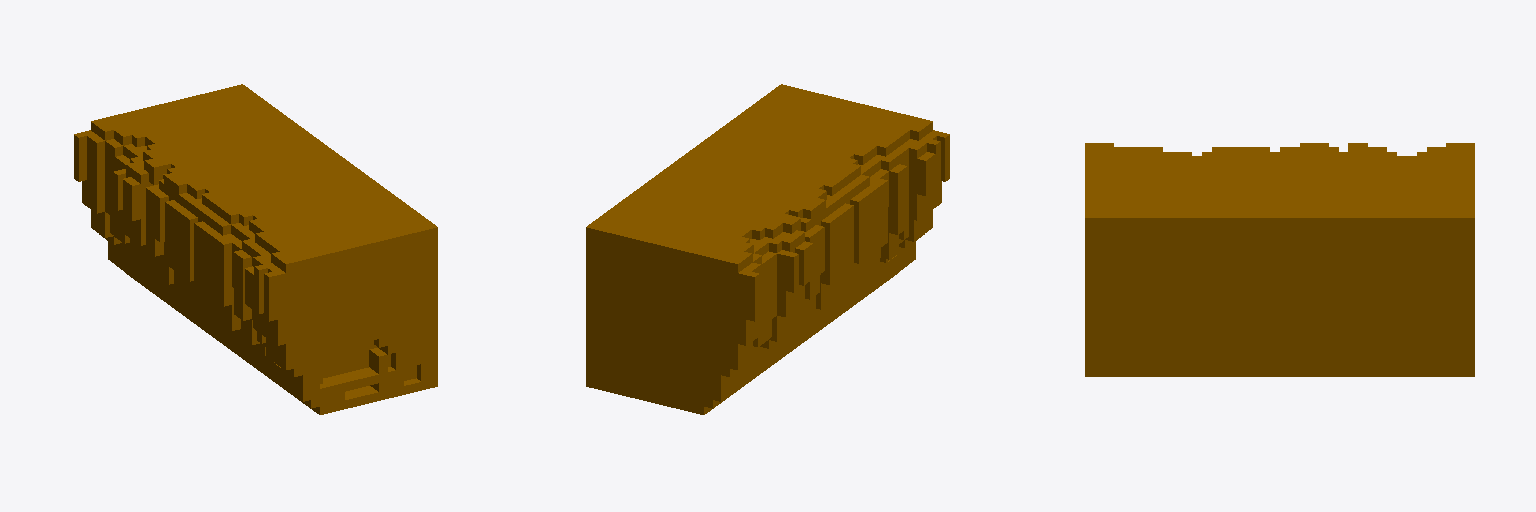
3 renders of one model, left to right at view 1: azimuth 30°, elevation 25°; view 2: azimuth 150°, elevation 25°; view 3: azimuth 270°, elevation 25°, orthographic.
Parts seen in each view (by area): view 1: Ground_Edge; view 2: Ground_Edge; view 3: Ground_Edge.
Boxes of the visible parts, x1=… form: Ground_Edge: x1=74, y1=84, x2=437, y2=414; Ground_Edge: x1=586, y1=84, x2=949, y2=414; Ground_Edge: x1=1085, y1=143, x2=1474, y2=376.
Size of the model in its own units: 20 by 18 by 40.
Materials: 1 (1 with a texture image).